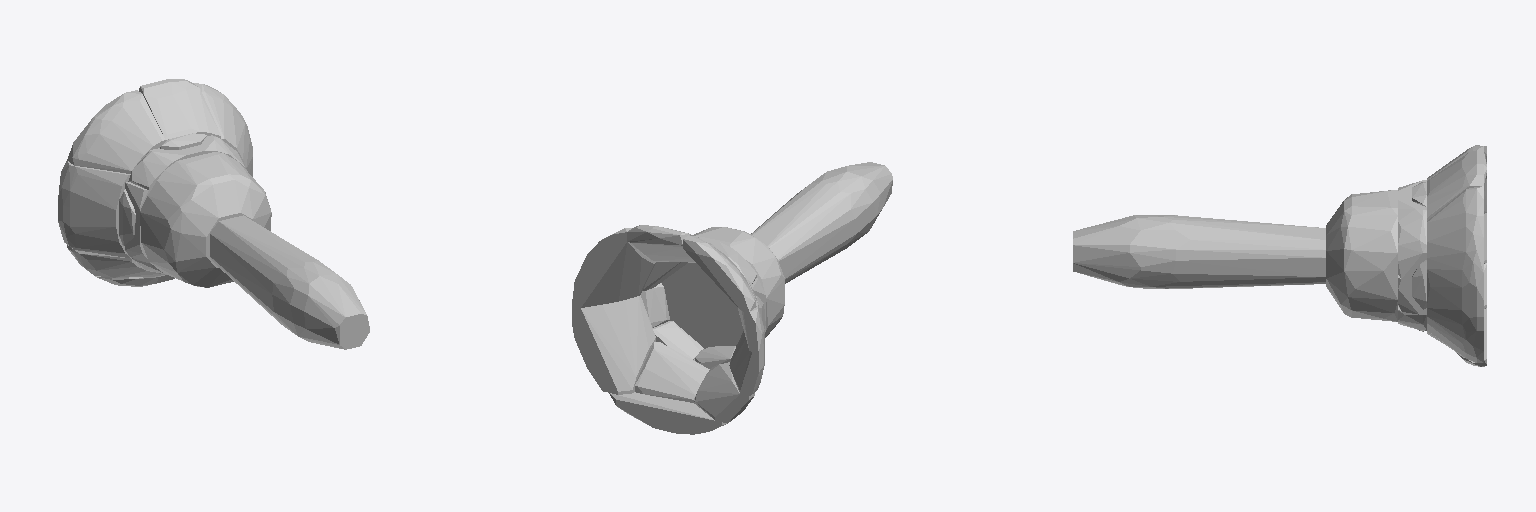
Rendered from Cole_Hardware_School_Bell_Solid_Brass_38_collision.obj.
3 renders of one model, left to right at view 1: azimuth 30°, elevation 25°; view 2: azimuth 150°, elevation 25°; view 3: azimuth 270°, elevation 25°, orthographic.
Visible parts, largest first — view 1: convex_0, convex_2, convex_8, convex_11, convex_7, convex_6, convex_12, convex_5, convex_20, convex_13, convex_16, convex_1; view 2: convex_0, convex_2, convex_10, convex_12, convex_9, convex_1, convex_8, convex_5, convex_11, convex_6, convex_21, convex_7 (+4 smaller); view 3: convex_0, convex_2, convex_12, convex_10, convex_11, convex_16, convex_15, convex_14.
Boxes of the visible parts, x1,y1,x2,y2 form: convex_0: [210, 215, 369, 349]; convex_2: [140, 152, 271, 287]; convex_8: [67, 90, 165, 173]; convex_11: [139, 79, 220, 140]; convex_7: [58, 161, 130, 216]; convex_6: [58, 202, 131, 258]; convex_12: [194, 83, 252, 173]; convex_5: [67, 245, 160, 277]; convex_20: [128, 146, 201, 189]; convex_13: [119, 189, 135, 245]; convex_16: [195, 135, 246, 169]; convex_1: [95, 275, 174, 286]; convex_0: [751, 162, 892, 283]; convex_2: [661, 227, 784, 348]; convex_10: [572, 295, 655, 394]; convex_12: [572, 228, 655, 307]; convex_9: [635, 342, 709, 402]; convex_1: [609, 392, 726, 434]; convex_8: [683, 235, 756, 311]; convex_5: [694, 362, 754, 423]; convex_11: [627, 225, 695, 262]; convex_6: [729, 331, 764, 395]; convex_21: [653, 321, 703, 359]; convex_7: [738, 282, 764, 352]; convex_0: [1073, 215, 1325, 288]; convex_2: [1326, 190, 1397, 321]; convex_12: [1427, 186, 1483, 299]; convex_10: [1427, 286, 1483, 362]; convex_11: [1427, 150, 1486, 220]; convex_16: [1398, 198, 1426, 278]; convex_15: [1398, 275, 1426, 314]; convex_14: [1412, 260, 1426, 309].
Size of the model in its own units: 0.0847 by 0.0847 by 0.161.